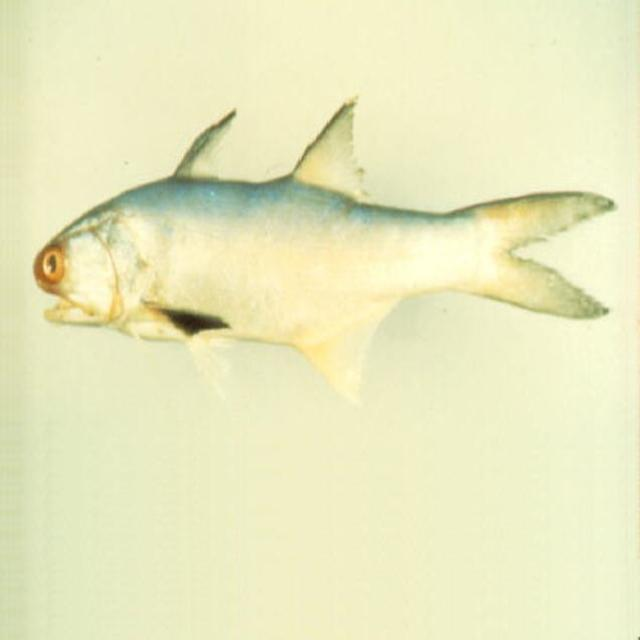Fourfinger-Threadfin: (15, 93, 640, 369)
